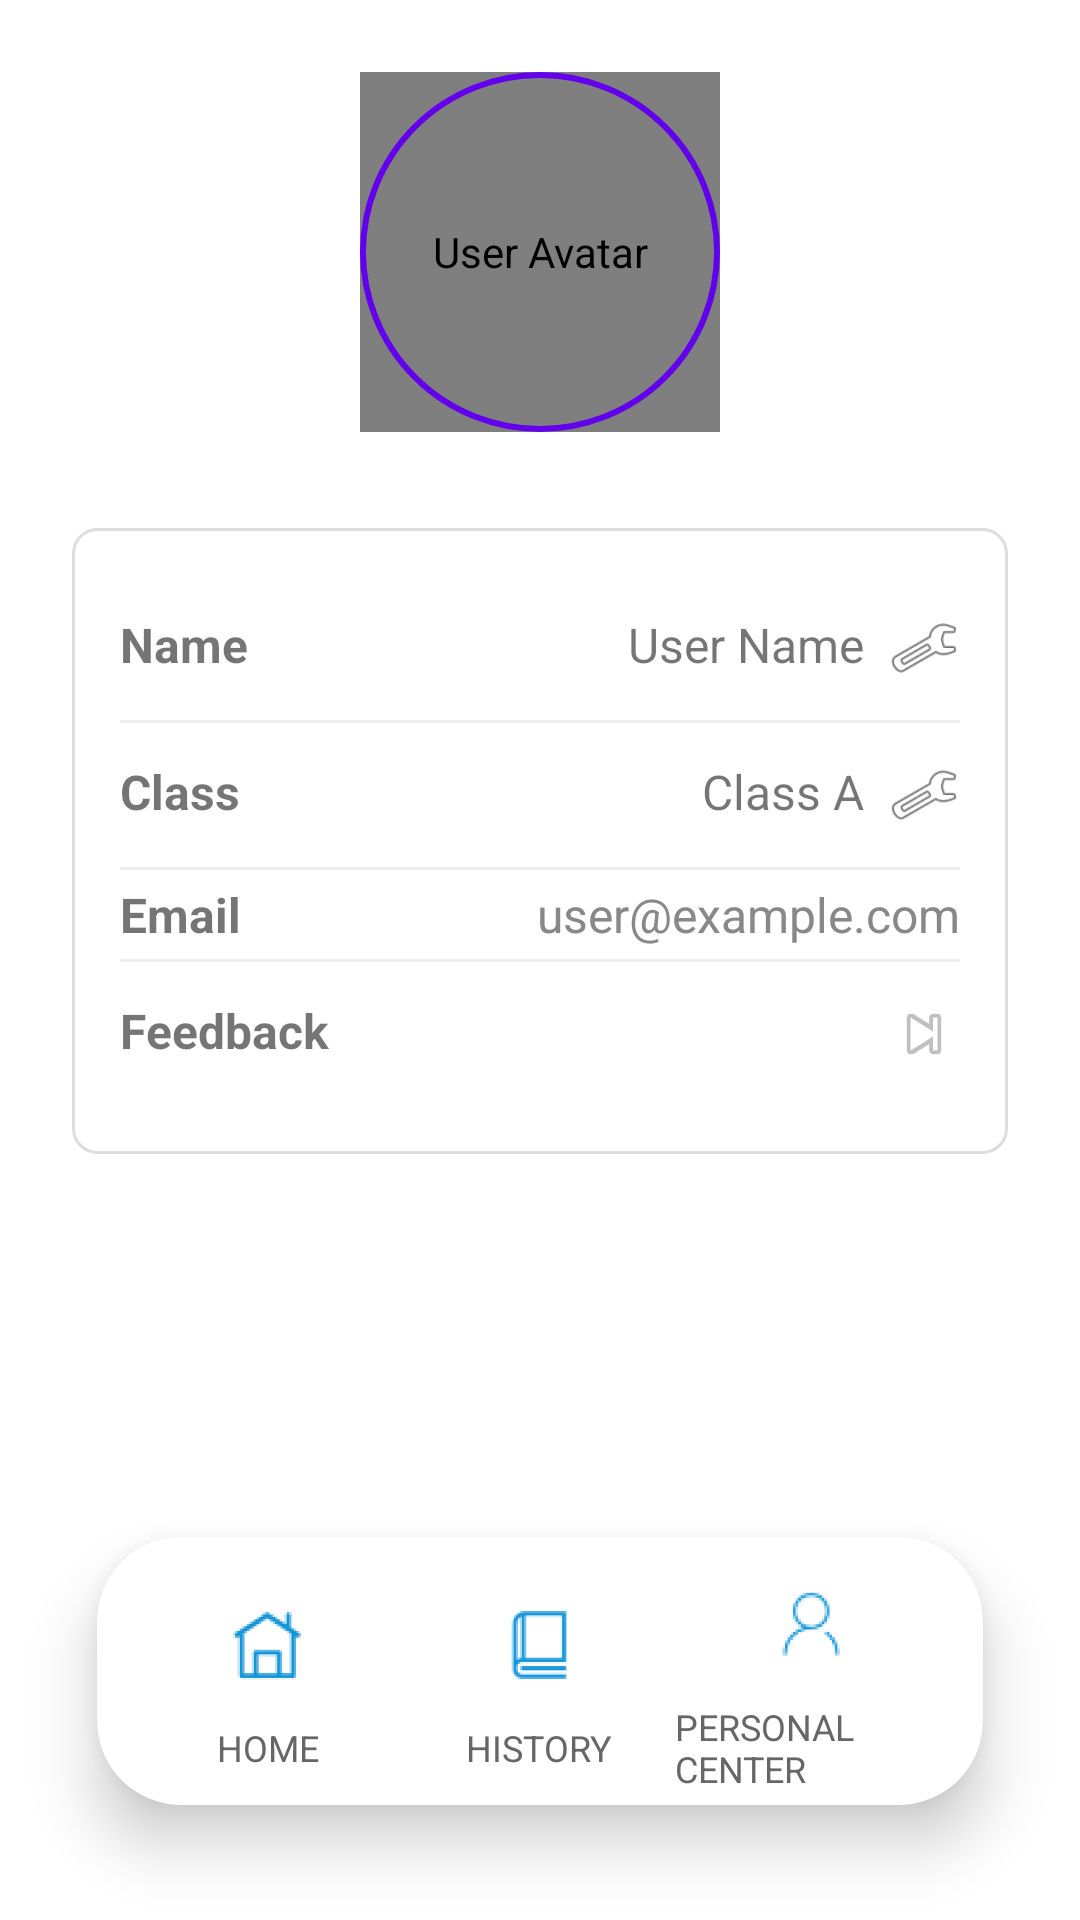

Where icons sit on this 1080px×1920px app screen, as Rect(x1, y1, x2, y2):
manage: Rect(891, 623, 956, 673), Rect(891, 770, 956, 820)
next: Rect(907, 1014, 941, 1054)
